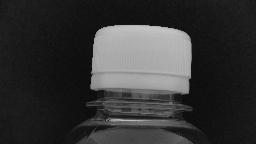Loose Cap: (81, 68, 201, 115)
